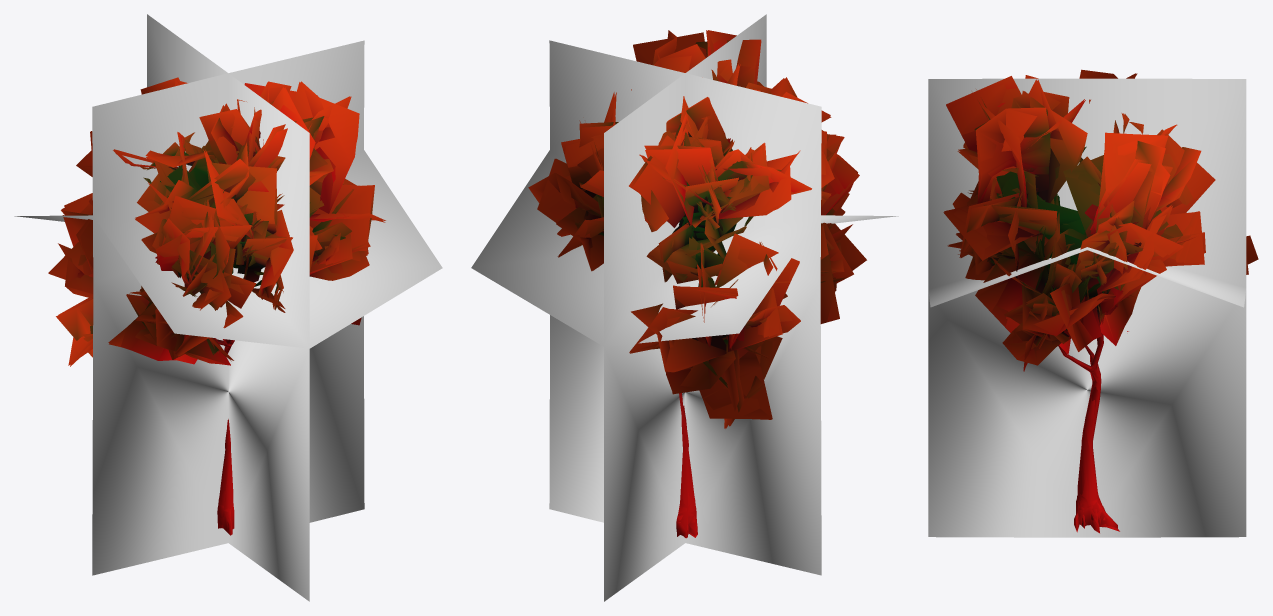
Rendered from GenericTreeCATAM_A.fbx.
3 views of the same model, side by side, from view 1: azimuth 30°, elevation 25°; view 2: azimuth 150°, elevation 25°; view 3: azimuth 270°, elevation 25° (orthographic). The views are drawn at different scales.
Parts seen in each view (by area): view 1: GTCATAM_Leaf_A_Billboard, GTCATAM_Leaf_A_L0D2, GTCATAM_Leaf_A_L0D0, GTCATAM_Leaf_A_L0D1, GTCATAM_Trunk_A_L0D2; view 2: GTCATAM_Leaf_A_Billboard, GTCATAM_Leaf_A_L0D2, GTCATAM_Leaf_A_L0D0, GTCATAM_Leaf_A_L0D1, GTCATAM_Trunk_A_L0D2, GTCATAM_Trunk_A_L0D1; view 3: GTCATAM_Leaf_A_Billboard, GTCATAM_Leaf_A_L0D2, GTCATAM_Leaf_A_L0D0, GTCATAM_Leaf_A_L0D1, GTCATAM_Trunk_A_L0D1, GTCATAM_Trunk_A_L0D0, GTCATAM_Trunk_A_L0D2.
Boxes of the visible parts, bbox=[...] form: GTCATAM_Leaf_A_Billboard: bbox=[14, 14, 442, 601]; GTCATAM_Leaf_A_L0D2: bbox=[48, 78, 384, 365]; GTCATAM_Leaf_A_L0D0: bbox=[53, 78, 385, 366]; GTCATAM_Leaf_A_L0D1: bbox=[48, 77, 385, 365]; GTCATAM_Trunk_A_L0D2: bbox=[217, 339, 233, 531]; GTCATAM_Leaf_A_Billboard: bbox=[471, 14, 898, 601]; GTCATAM_Leaf_A_L0D2: bbox=[537, 30, 866, 428]; GTCATAM_Leaf_A_L0D0: bbox=[528, 30, 859, 428]; GTCATAM_Leaf_A_L0D1: bbox=[532, 30, 858, 428]; GTCATAM_Trunk_A_L0D2: bbox=[676, 393, 697, 537]; GTCATAM_Trunk_A_L0D1: bbox=[676, 393, 697, 535]; GTCATAM_Leaf_A_Billboard: bbox=[928, 78, 1246, 537]; GTCATAM_Leaf_A_L0D2: bbox=[943, 69, 1250, 369]; GTCATAM_Leaf_A_L0D0: bbox=[944, 73, 1258, 371]; GTCATAM_Leaf_A_L0D1: bbox=[946, 70, 1248, 370]; GTCATAM_Trunk_A_L0D1: bbox=[1059, 305, 1117, 532]; GTCATAM_Trunk_A_L0D0: bbox=[1050, 281, 1117, 532]; GTCATAM_Trunk_A_L0D2: bbox=[1062, 308, 1119, 532].
Bounding box in the file's own units: 7.91 × 13.18 × 8.4.
